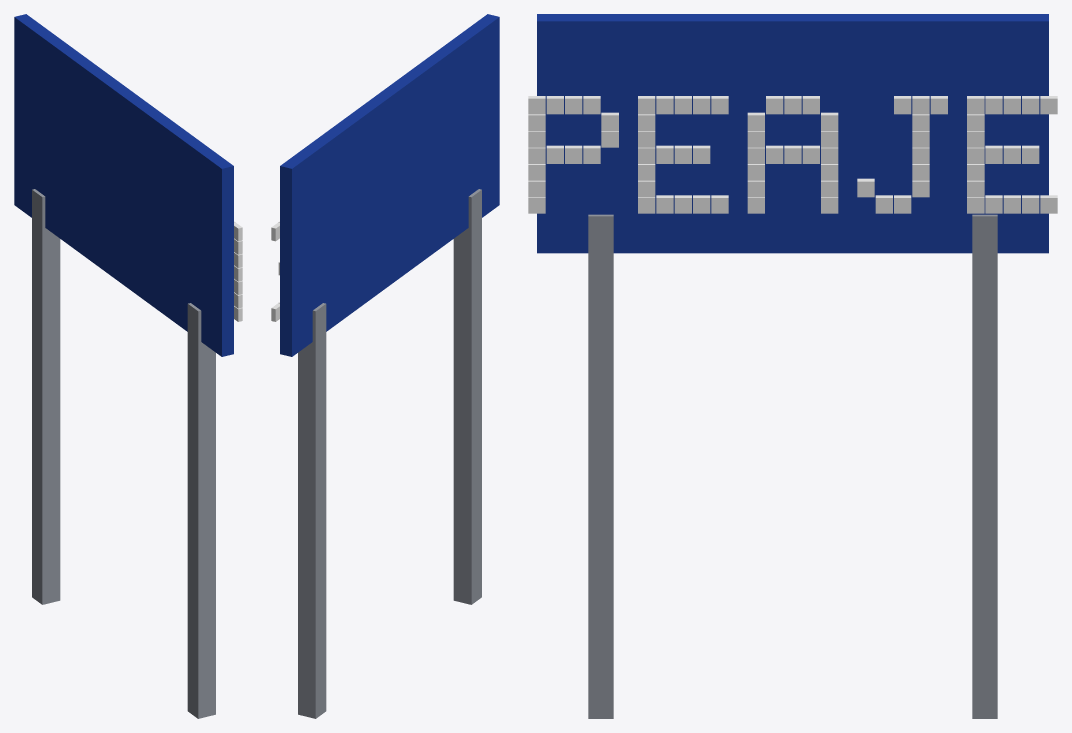
File: letrero_peaje.obj
3 renders of one model, left to right at view 1: azimuth 30°, elevation 25°; view 2: azimuth 150°, elevation 25°; view 3: azimuth 270°, elevation 25°, orthographic. The views are drawn at different scales.
Parts seen in each view (by area): view 1: letrero_peaje; view 2: letrero_peaje; view 3: letrero_peaje.
Boxes of the visible parts, x1=… form: letrero_peaje: x1=14, y1=14, x2=242, y2=718; letrero_peaje: x1=271, y1=14, x2=499, y2=718; letrero_peaje: x1=528, y1=14, x2=1057, y2=718.
Size of the model in its own units: 0.135 by 3.6 by 2.48.
